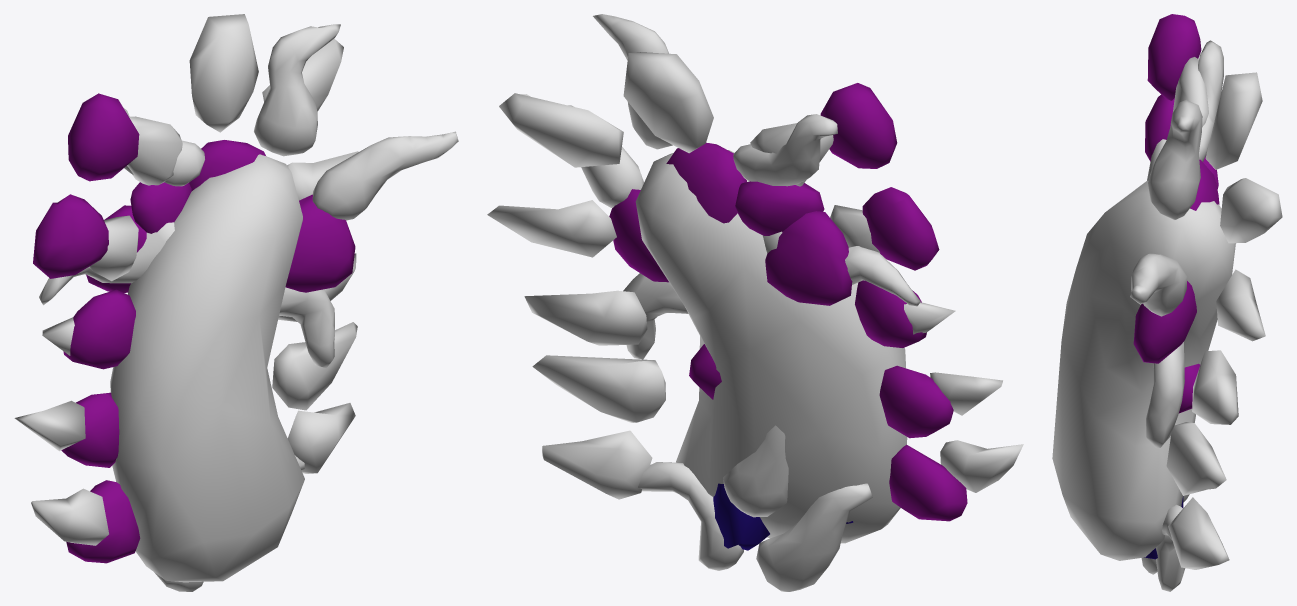
The model's file is flowersOriginAtBottom.fbx.
The picture shows the model from 3 angles, left to right: view 1: azimuth 30°, elevation 25°; view 2: azimuth 150°, elevation 25°; view 3: azimuth 270°, elevation 25°; orthographic projection. The views are drawn at different scales.
Parts seen in each view (by area): view 1: cactus, grass, sunflower, flower; view 2: cactus, sunflower, grass, flower; view 3: cactus, sunflower, grass, flower.
Part boxes in pixels (x1,y1,x2,y2): cactus: [14, 14, 358, 582]; grass: [33, 93, 191, 563]; sunflower: [39, 24, 458, 591]; flower: [86, 140, 355, 292]; cactus: [487, 52, 1023, 543]; sunflower: [521, 14, 920, 591]; grass: [689, 83, 967, 523]; flower: [609, 142, 852, 550]; cactus: [1052, 57, 1282, 569]; sunflower: [1130, 40, 1223, 591]; grass: [1145, 14, 1218, 413]; flower: [1133, 159, 1219, 559].
Size of the model in its own units: 68.31 by 75.3 by 29.36.
